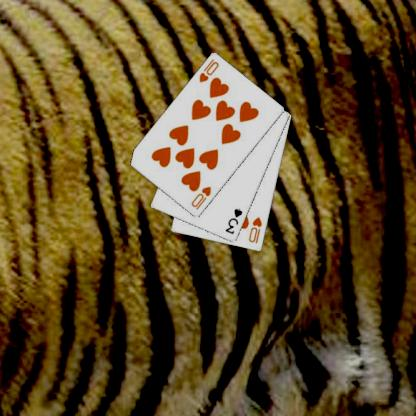10H: (196, 57, 221, 84), (188, 184, 212, 211), (246, 214, 264, 245)
3S: (223, 206, 244, 236)
